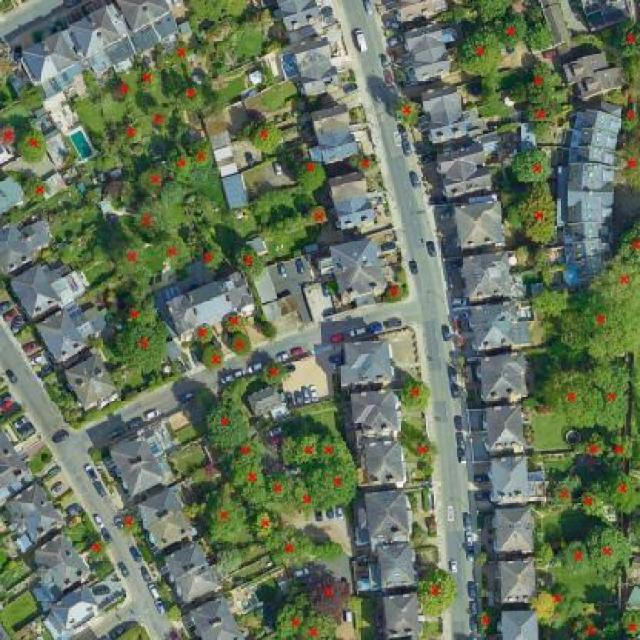tree: (561, 283, 640, 361), (535, 366, 607, 428), (106, 319, 174, 381), (502, 182, 563, 248), (195, 486, 256, 546), (590, 352, 633, 433), (445, 28, 507, 84), (199, 395, 261, 450), (300, 564, 355, 624), (412, 562, 463, 622), (586, 253, 640, 307), (314, 456, 366, 512), (587, 521, 635, 579), (101, 231, 159, 278), (242, 112, 295, 159), (506, 144, 559, 191), (286, 150, 334, 201), (229, 458, 274, 512), (104, 299, 174, 332), (522, 55, 566, 107), (194, 218, 231, 279), (127, 192, 170, 242), (601, 458, 640, 513), (176, 0, 261, 25), (393, 366, 438, 412), (545, 577, 593, 620), (256, 466, 307, 506), (490, 8, 528, 61), (215, 435, 272, 470), (398, 422, 442, 467), (156, 232, 199, 278), (611, 130, 640, 198), (232, 236, 268, 290), (130, 159, 178, 199), (386, 90, 431, 132), (103, 117, 149, 158), (558, 532, 593, 585), (264, 529, 314, 566), (14, 125, 55, 170), (526, 282, 574, 320), (518, 100, 560, 143), (296, 466, 326, 526), (268, 591, 304, 640), (315, 427, 359, 467), (155, 36, 200, 75), (543, 471, 583, 514), (172, 78, 216, 117), (614, 211, 640, 275), (228, 25, 274, 61), (564, 432, 610, 468), (567, 482, 608, 522), (566, 606, 614, 640), (518, 15, 559, 54), (466, 0, 522, 28), (247, 502, 281, 546), (607, 10, 640, 55), (294, 424, 326, 470), (208, 541, 248, 577), (162, 147, 200, 184), (188, 133, 218, 178), (223, 330, 265, 362), (253, 356, 293, 389), (16, 79, 52, 115), (110, 508, 150, 540), (194, 20, 243, 46), (218, 372, 259, 403), (186, 315, 222, 348), (527, 588, 561, 622), (296, 615, 342, 640), (18, 174, 57, 203), (196, 341, 230, 374), (308, 536, 348, 564), (141, 102, 173, 136), (606, 428, 634, 466), (275, 432, 299, 476), (345, 147, 381, 176), (614, 600, 640, 640), (218, 307, 252, 335), (528, 536, 554, 572), (83, 536, 115, 564), (302, 202, 331, 232), (106, 80, 137, 108), (405, 522, 433, 552), (0, 118, 23, 154), (473, 604, 498, 636), (374, 285, 412, 306), (133, 65, 162, 92), (384, 262, 416, 286), (158, 598, 188, 622), (617, 102, 640, 133), (505, 80, 530, 108), (470, 547, 492, 573)
